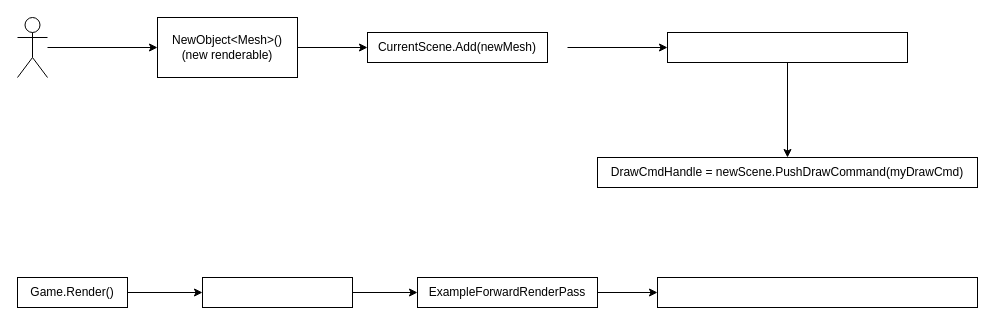
This 995x325 diagram has some shape labels left out. Here are the shapes that lost their labels. From the top down, the centre of each, then its label:
At [787,47]: "newMesh.OnSceneChanged(newScene)".
At [277,292]: "ExecuteRenderGraph()".
At [817,292]: "newScene.DrawCmdList.ForEach => ProcessDrawCmd".
